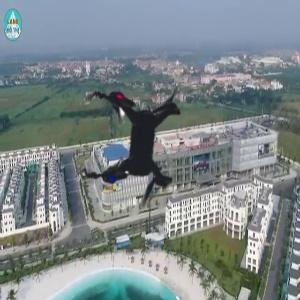drone: (25, 34, 252, 261)
